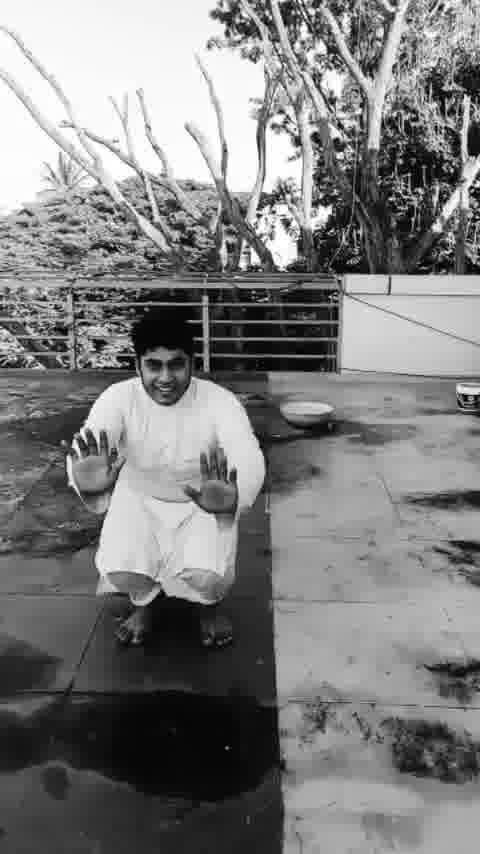duck: (57, 309, 276, 659)
